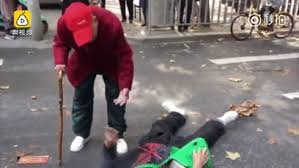falling: (84, 92, 250, 167)
